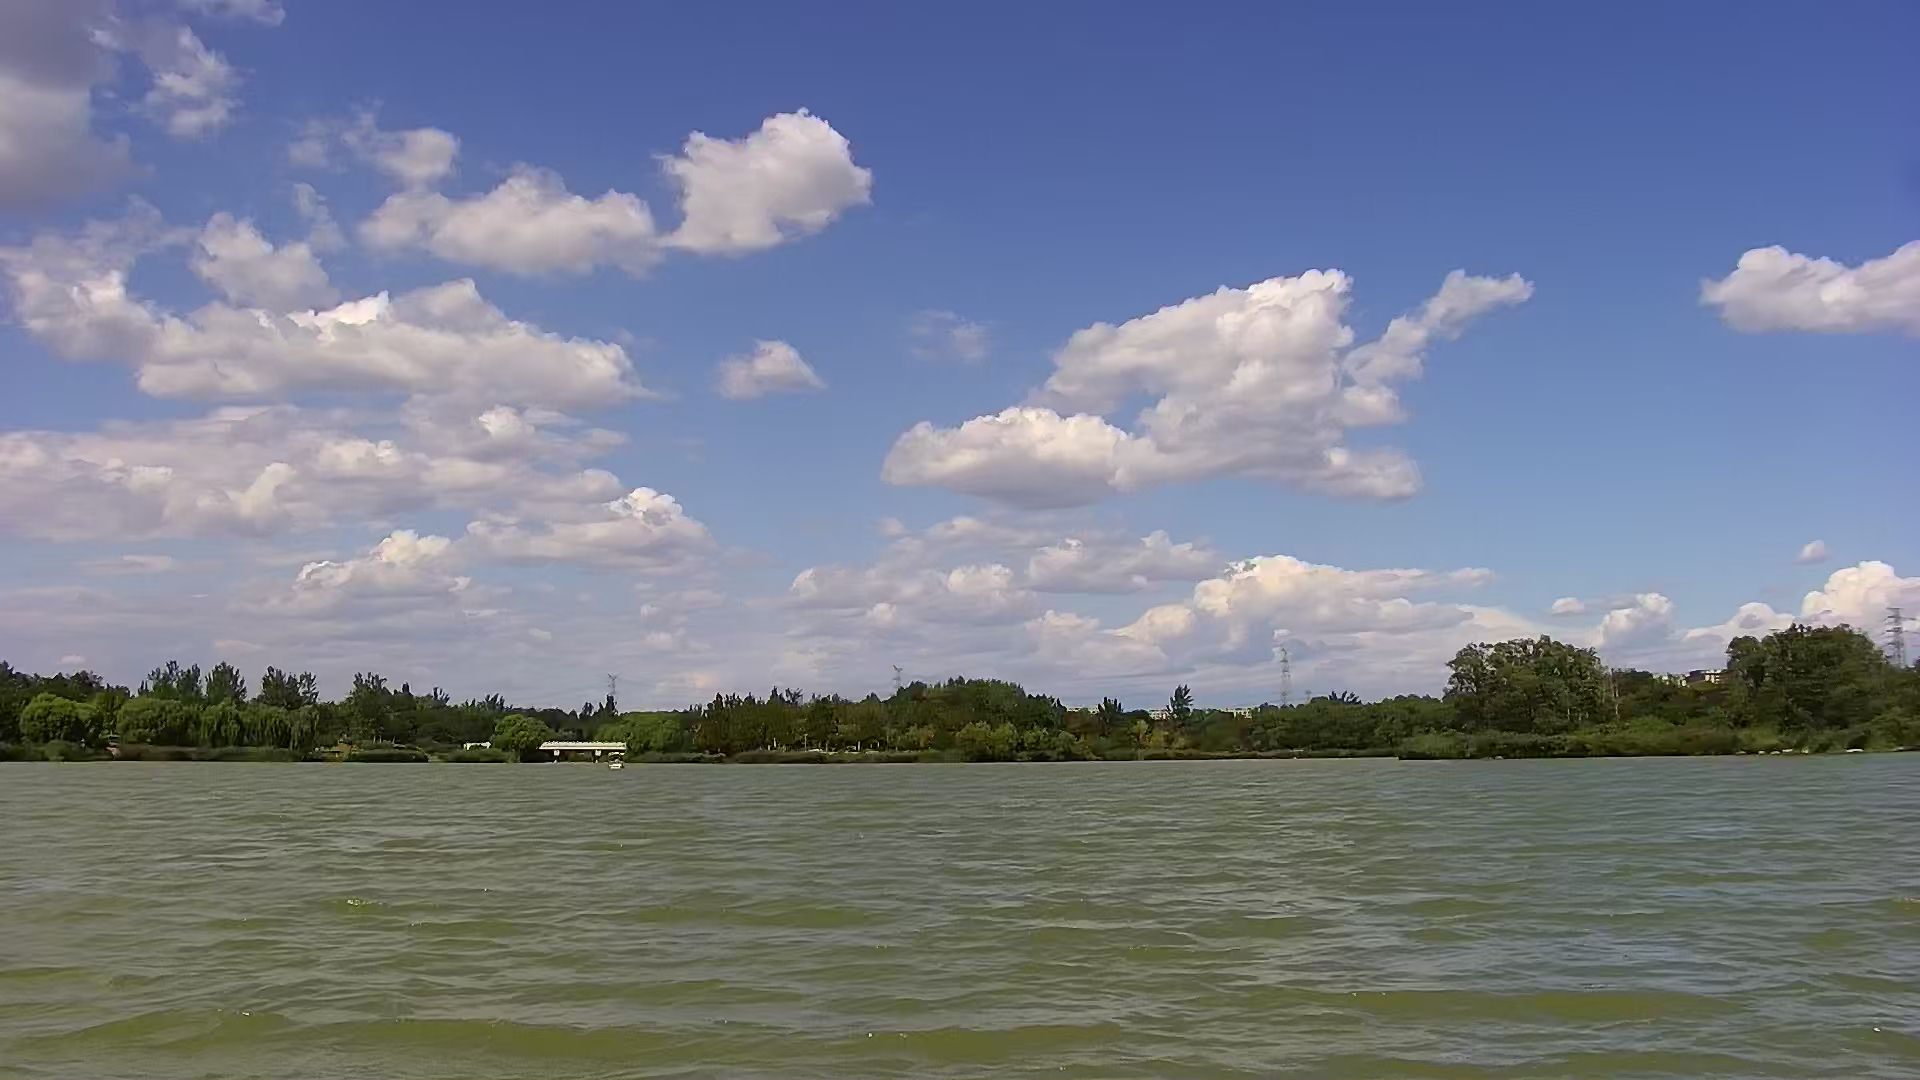bridge: (543, 736, 637, 762)
